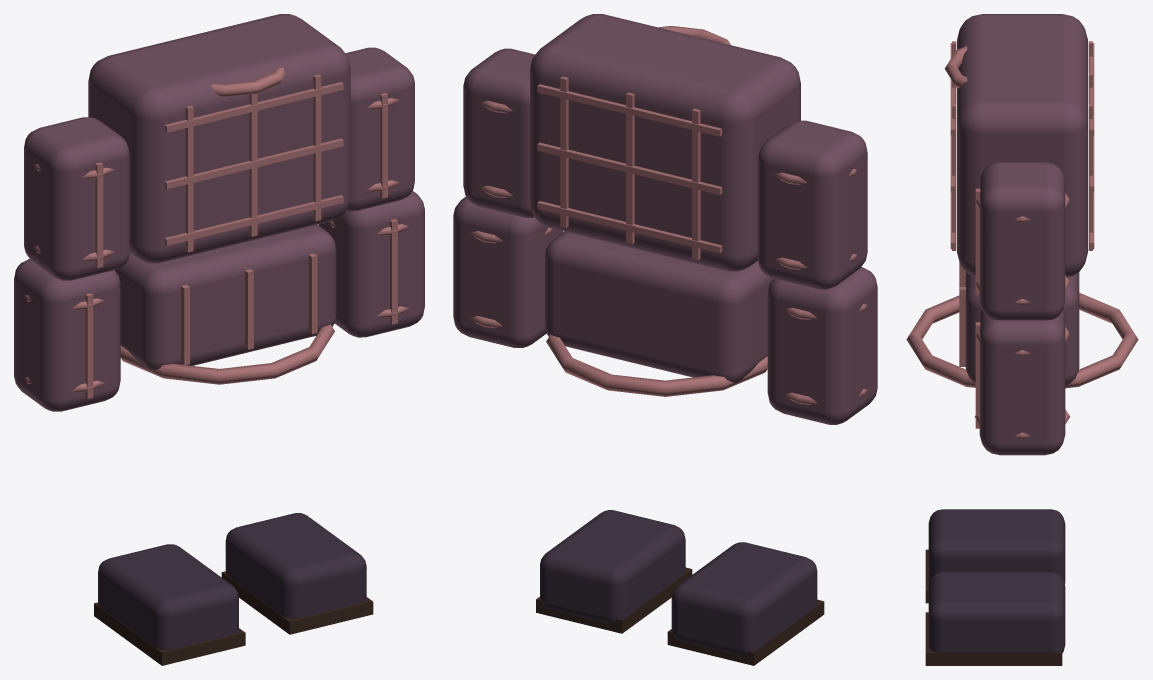
File: armor-padded.glb
The picture shows the model from 3 angles, left to right: view 1: azimuth 30°, elevation 25°; view 2: azimuth 150°, elevation 25°; view 3: azimuth 270°, elevation 25°; orthographic projection. The views are drawn at different scales.
Visible parts, largest first — view 1: padded-sleeve (×4), cloth-chest, padded-boot (×2), cloth-waist, quilt-seam-front-cross (×3), boot-sole (×2), padded-sleeve-seam (×4), quilt-seam-front (×3), waist-hem, waist-quilt-seam (×3), cloth-neckline; view 2: padded-sleeve (×4), cloth-chest, cloth-waist, padded-boot (×2), quilt-seam-back-cross (×3), quilt-seam-back (×3), waist-hem, boot-sole (×2); view 3: padded-sleeve (×2), cloth-chest, padded-boot (×2), waist-hem, cloth-waist, boot-sole, padded-sleeve-seam (×2), quilt-seam-front, quilt-seam-back, waist-quilt-seam, cloth-neckline, quilt-seam-back-cross.
Boxes of the visible parts, x1,y1,x2,y2 form: padded-sleeve (×4): (14,47,424,411); cloth-chest: (88,14,350,263); padded-boot (×2): (98,513,366,649); cloth-waist: (114,224,336,371); quilt-seam-front-cross (×3): (164,82,343,245); boot-sole (×2): (94,571,373,665); padded-sleeve-seam (×4): (85,93,397,398); quilt-seam-front (×3): (185,74,321,252); waist-hem: (120,324,334,384); waist-quilt-seam (×3): (180,253,317,364); cloth-neckline: (210,67,285,97); padded-sleeve (×4): (453,48,877,424); cloth-chest: (530,14,800,271); cloth-waist: (545,231,773,383); padded-boot (×2): (540,510,817,655); quilt-seam-back-cross (×3): (537,84,722,253); quilt-seam-back (×3): (560,76,700,260); waist-hem: (546,334,767,396); boot-sole (×2): (536,567,824,665); padded-sleeve (×2): (979,162,1065,455); cloth-chest: (957,14,1087,277); padded-boot (×2): (928,509,1065,653); waist-hem: (906,293,1138,388); cloth-waist: (965,272,1079,385); boot-sole: (925,612,1062,665); padded-sleeve-seam (×2): (975,188,980,428); quilt-seam-front: (952,103,956,250); quilt-seam-back: (1088,103,1092,250); waist-quilt-seam: (959,287,965,366); cloth-neckline: (944,45,967,88); quilt-seam-back-cross: (1089,43,1094,135).
Size of the model in its own units: 0.788 by 1.08 by 0.408.
